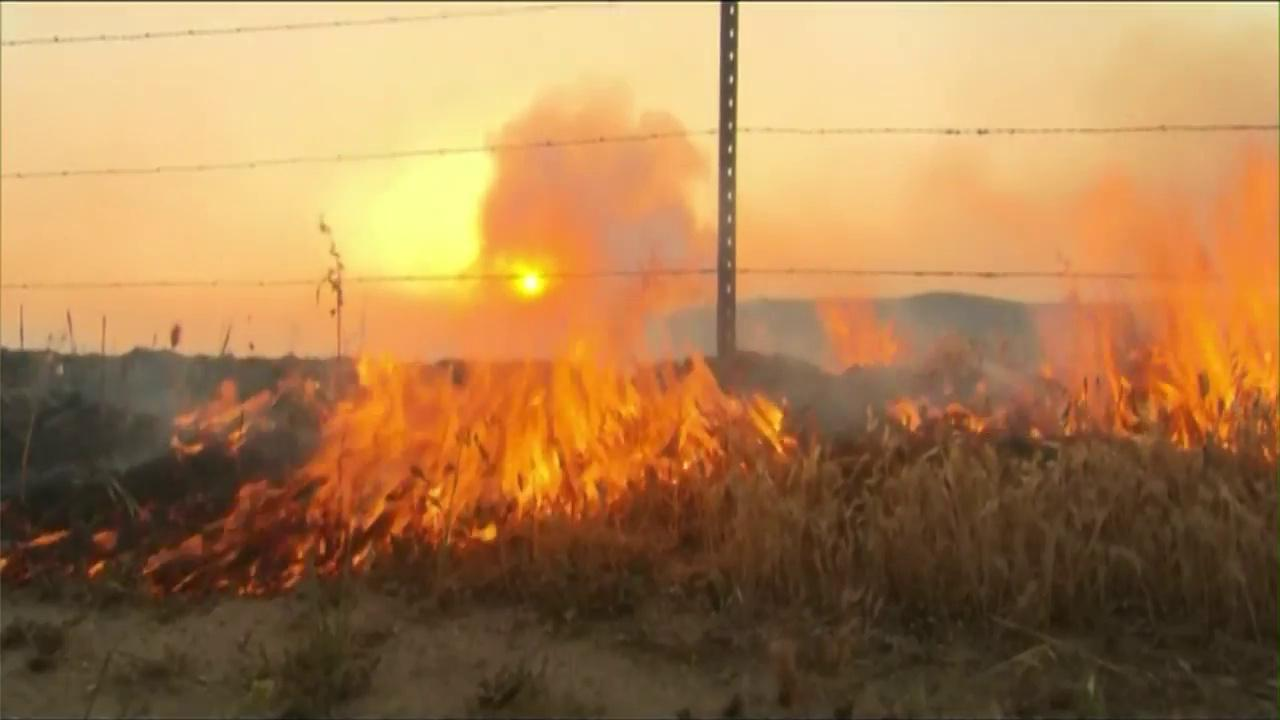Fire: (179, 294, 741, 574), (1026, 152, 1276, 435), (888, 385, 998, 436), (826, 294, 899, 366)
